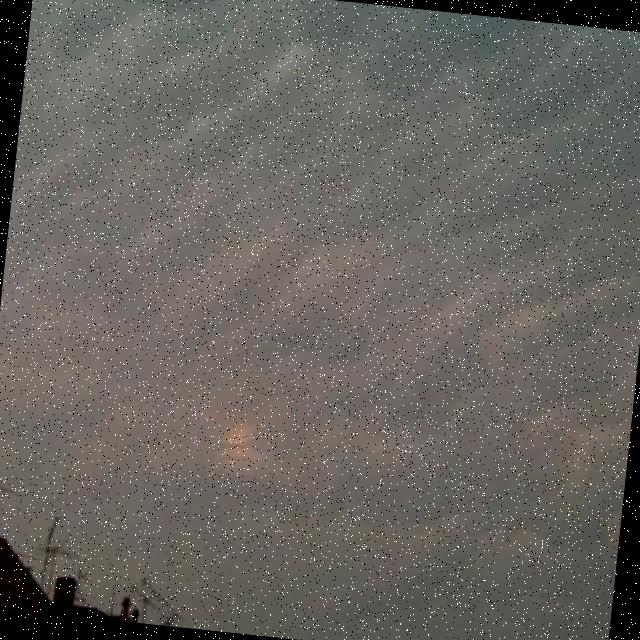Ac: (1, 1, 640, 519)
